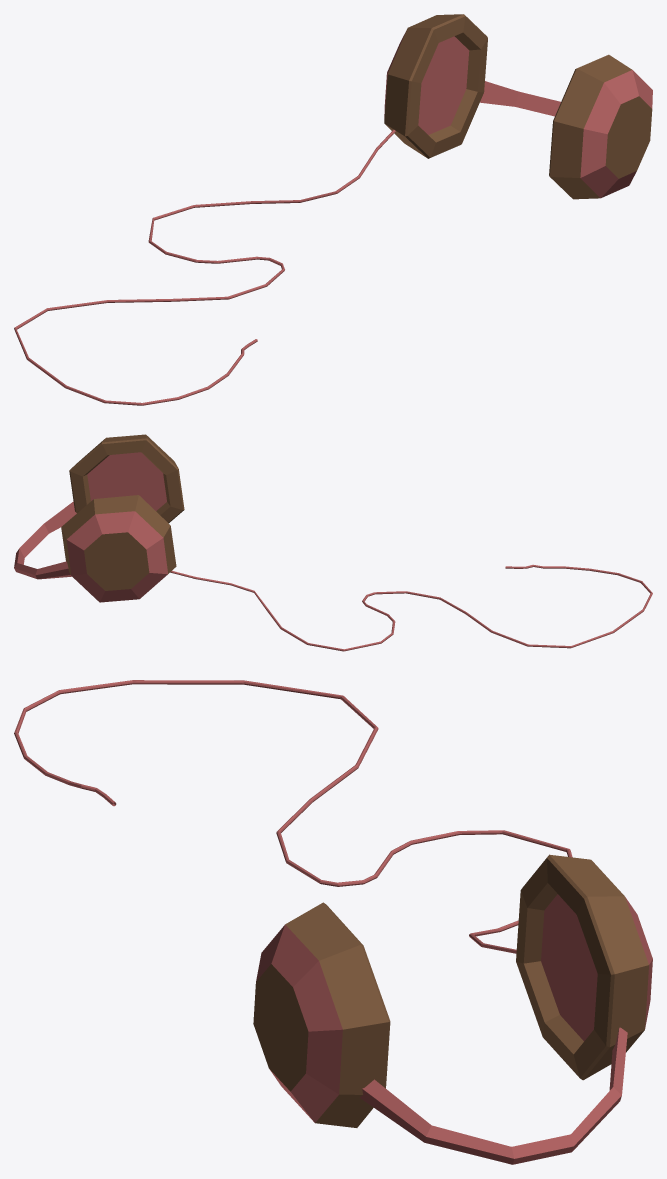
File: Bedroom_Headphones.fbx
3 renders of one model, top to bottom at view 1: azimuth 30°, elevation 25°; view 2: azimuth 150°, elevation 25°; view 3: azimuth 270°, elevation 25°, orthographic. The views are drawn at different scales.
Visible parts, largest first — view 1: Bedroom_Headphones; view 2: Bedroom_Headphones; view 3: Bedroom_Headphones.
Boxes of the visible parts, box(x1,y1,x2,y2) form: Bedroom_Headphones: box(14, 14, 652, 405); Bedroom_Headphones: box(14, 434, 652, 651); Bedroom_Headphones: box(14, 680, 652, 1164).
Size of the model in its own units: 114 by 21.69 by 63.73.
